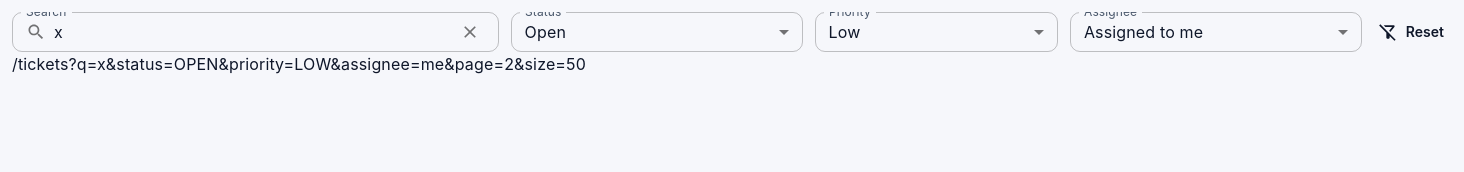
Scenario: TicketFilters URL sync › Reset clears filters but keeps page size
Step 1. Click the button "Reset" → (1413, 32), box [1374,14,1452,50]
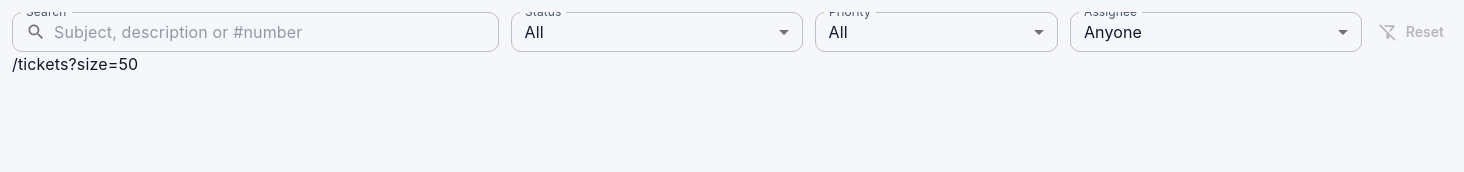
expect the field labelled "Search" is empty: met, box [54,12,499,52]
